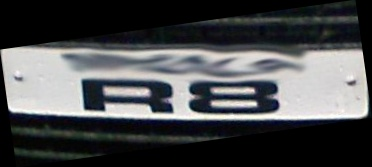character: (81, 76, 173, 114), (188, 78, 279, 114)
